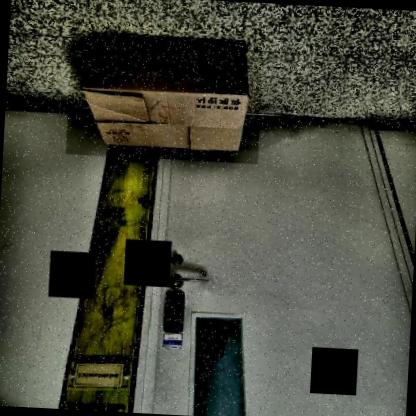box: (65, 20, 264, 164)
